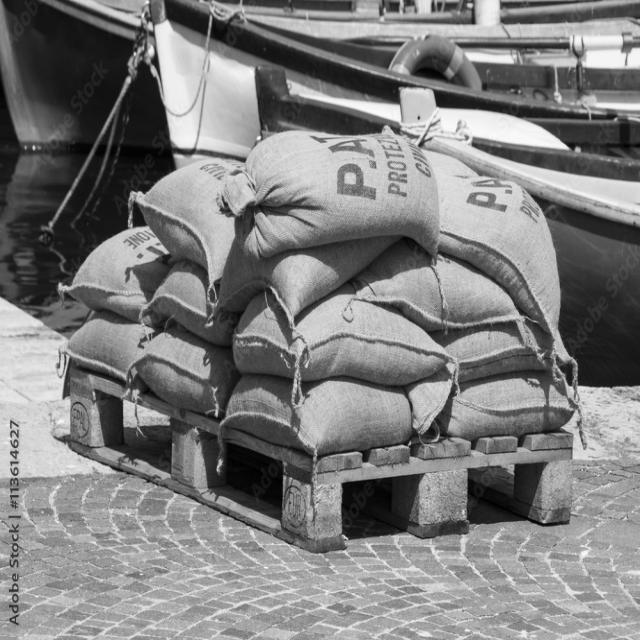sack: (217, 128, 440, 260), (426, 150, 560, 340), (232, 288, 450, 388), (213, 223, 402, 326), (219, 371, 413, 455), (350, 241, 525, 331), (130, 157, 241, 287), (414, 372, 577, 436), (62, 225, 169, 322), (131, 326, 234, 415), (438, 321, 574, 383), (141, 259, 231, 345), (59, 311, 155, 385)
